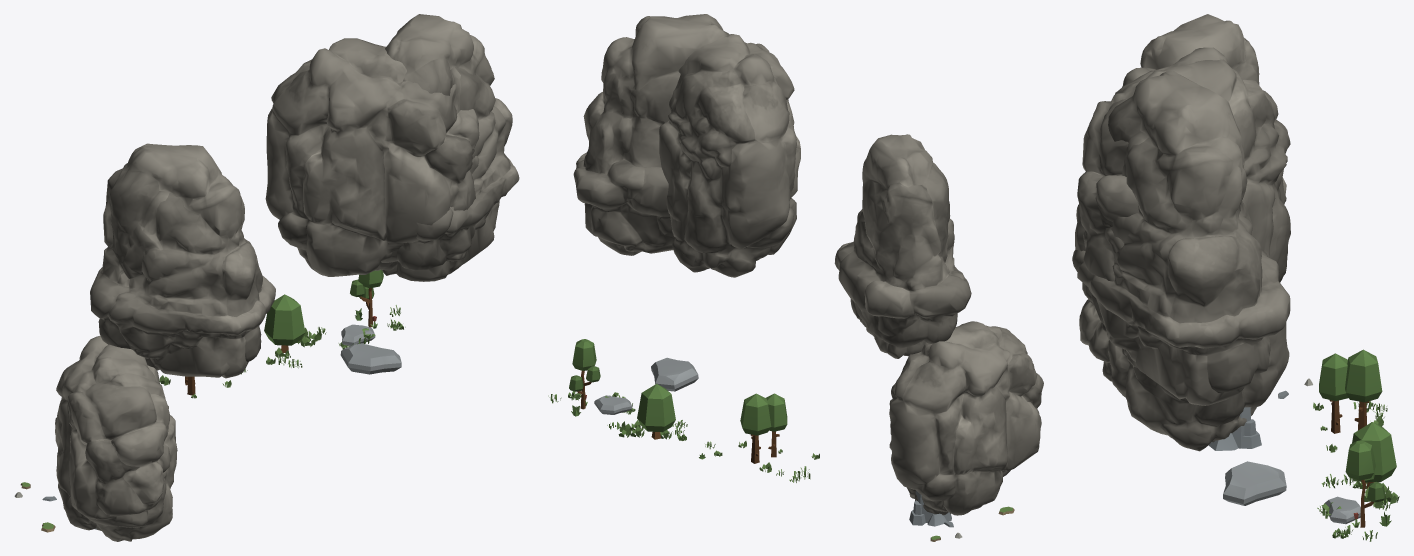
Rendered from cell_x-1_z2_render.gltf.
3 views of the same model, side by side, from view 1: azimuth 30°, elevation 25°; view 2: azimuth 150°, elevation 25°; view 3: azimuth 270°, elevation 25° (orthographic). The views are drawn at different scales.
Parts seen in each view (by area): view 1: cell_x-1_z2; view 2: cell_x-1_z2; view 3: cell_x-1_z2.
Part boxes in pixels (x1,y1,x2,y2): cell_x-1_z2: [14, 14, 519, 541]; cell_x-1_z2: [548, 14, 1043, 541]; cell_x-1_z2: [1072, 14, 1399, 541].
Bounding box in the file's own units: 42.67 × 38.87 × 22.16.
Materials: 11 (1 with a texture image).
